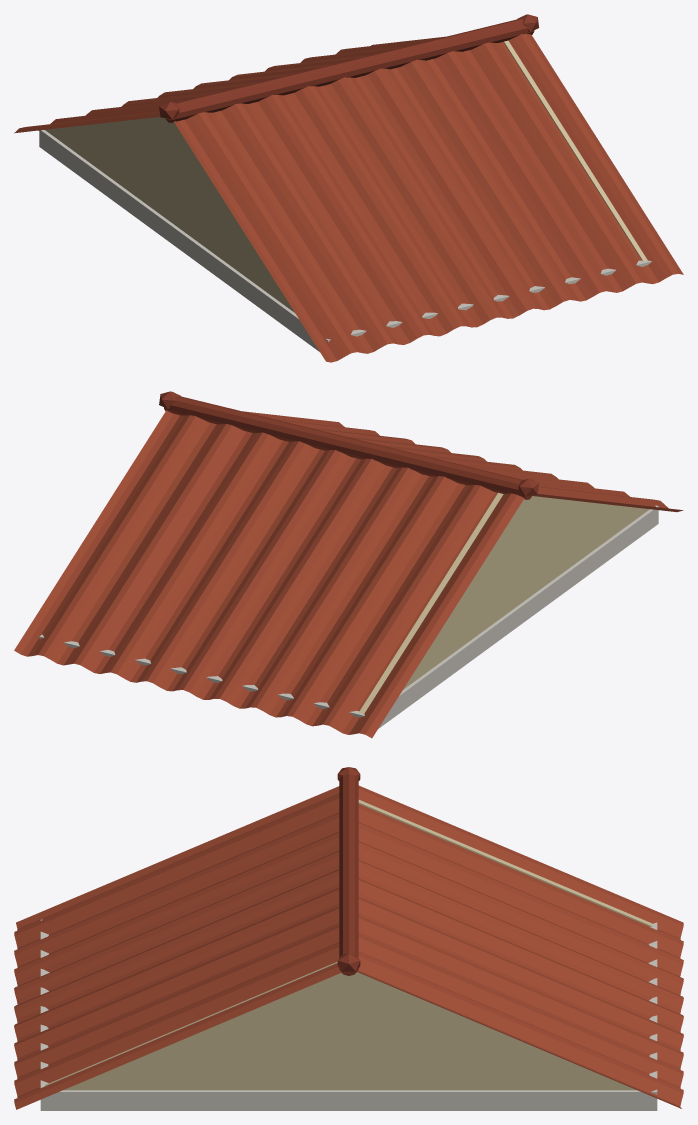
The model's file is mai_ngoi_48.glb.
3 renders of one model, top to bottom at view 1: azimuth 30°, elevation 25°; view 2: azimuth 150°, elevation 25°; view 3: azimuth 270°, elevation 25°, orthographic. The views are drawn at different scales.
Parts seen in each view (by area): view 1: mai_ngoi_48; view 2: mai_ngoi_48; view 3: mai_ngoi_48.
Part boxes in pixels (x1,y1,x2,y2): mai_ngoi_48: (14,14,683,362); mai_ngoi_48: (14,391,683,738); mai_ngoi_48: (14,767,683,1110).
Bounding box in the file's own units: 5.59 × 2.18 × 8.04.
